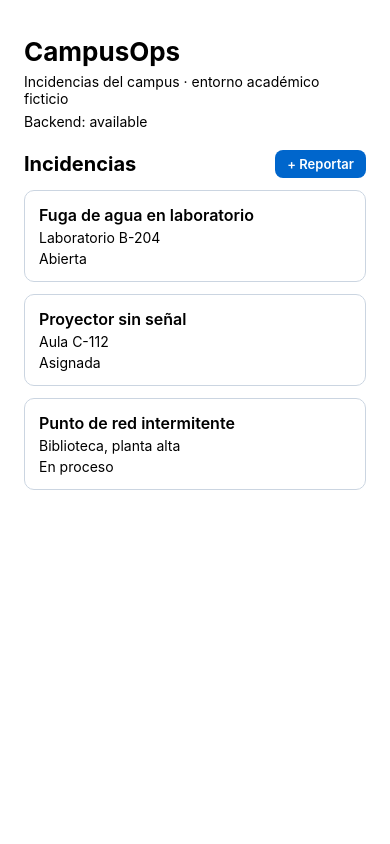
Test case: HU #29 — Casos de Uso y UI de Creación › CampusOpsApp e integración de creación con App › permite abrir el formulario de creación, reportar y volver a la lista actualizada
Expected: the text "Fuga de agua en laboratorio" is shown, x1=39 y1=205 x2=254 y2=225
Note: Abrir formulario
Click the button with test id "open-create-incident" at (321,164), box x1=275 y1=150 x2=366 y2=178
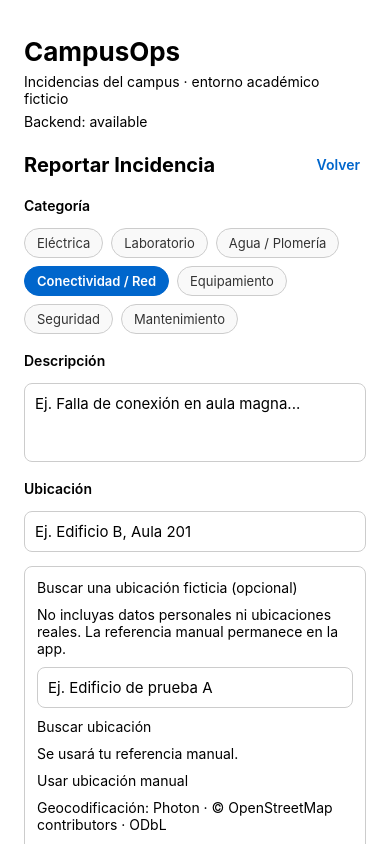
Expected: the text "Reportar Incidencia" is shown, x1=24 y1=152 x2=215 y2=176
Note: Llenar y enviar
Type "Nueva incidencia reportada" into the text box with test id "create-description-input" at (195,422), box x1=24 y1=383 x2=366 y2=462
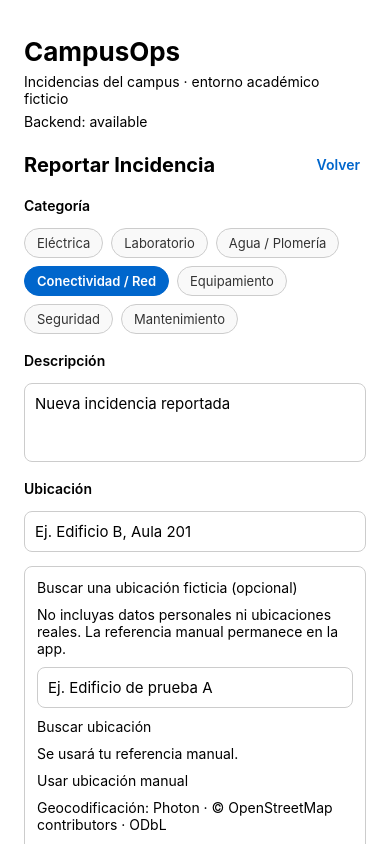
Type "Canchas" into the field with test id "create-location-input" at (195,532), box x1=24 y1=511 x2=366 y2=552
(page scrolled)
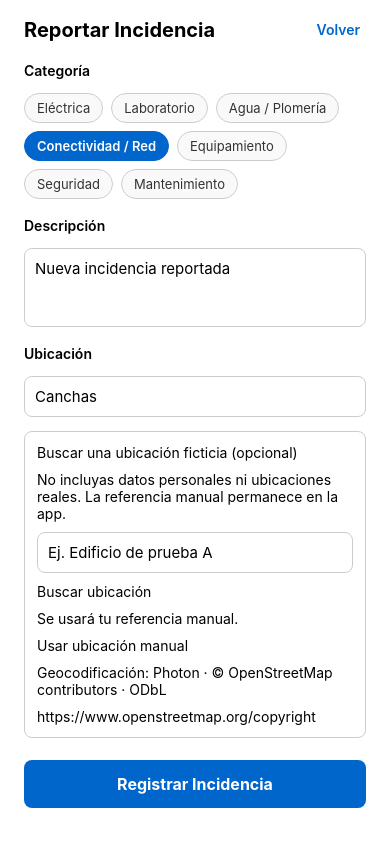
Click the button with test id "create-submit-button" at (195,784), box x1=24 y1=760 x2=366 y2=808
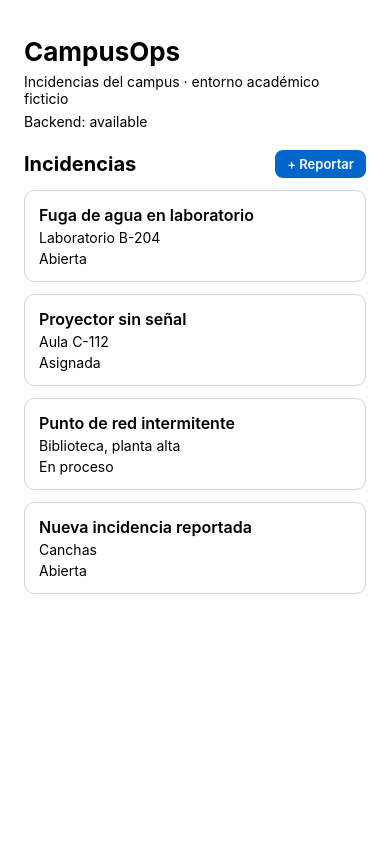
Expected: the text "Nueva incidencia reportada" is shown, x1=39 y1=517 x2=252 y2=537
